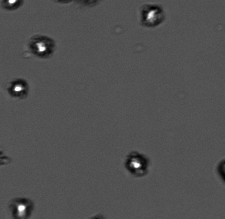Living Cell: (124, 150, 151, 178), (29, 33, 56, 58), (139, 2, 163, 28), (7, 77, 30, 99), (9, 196, 34, 216), (1, 1, 24, 11)
